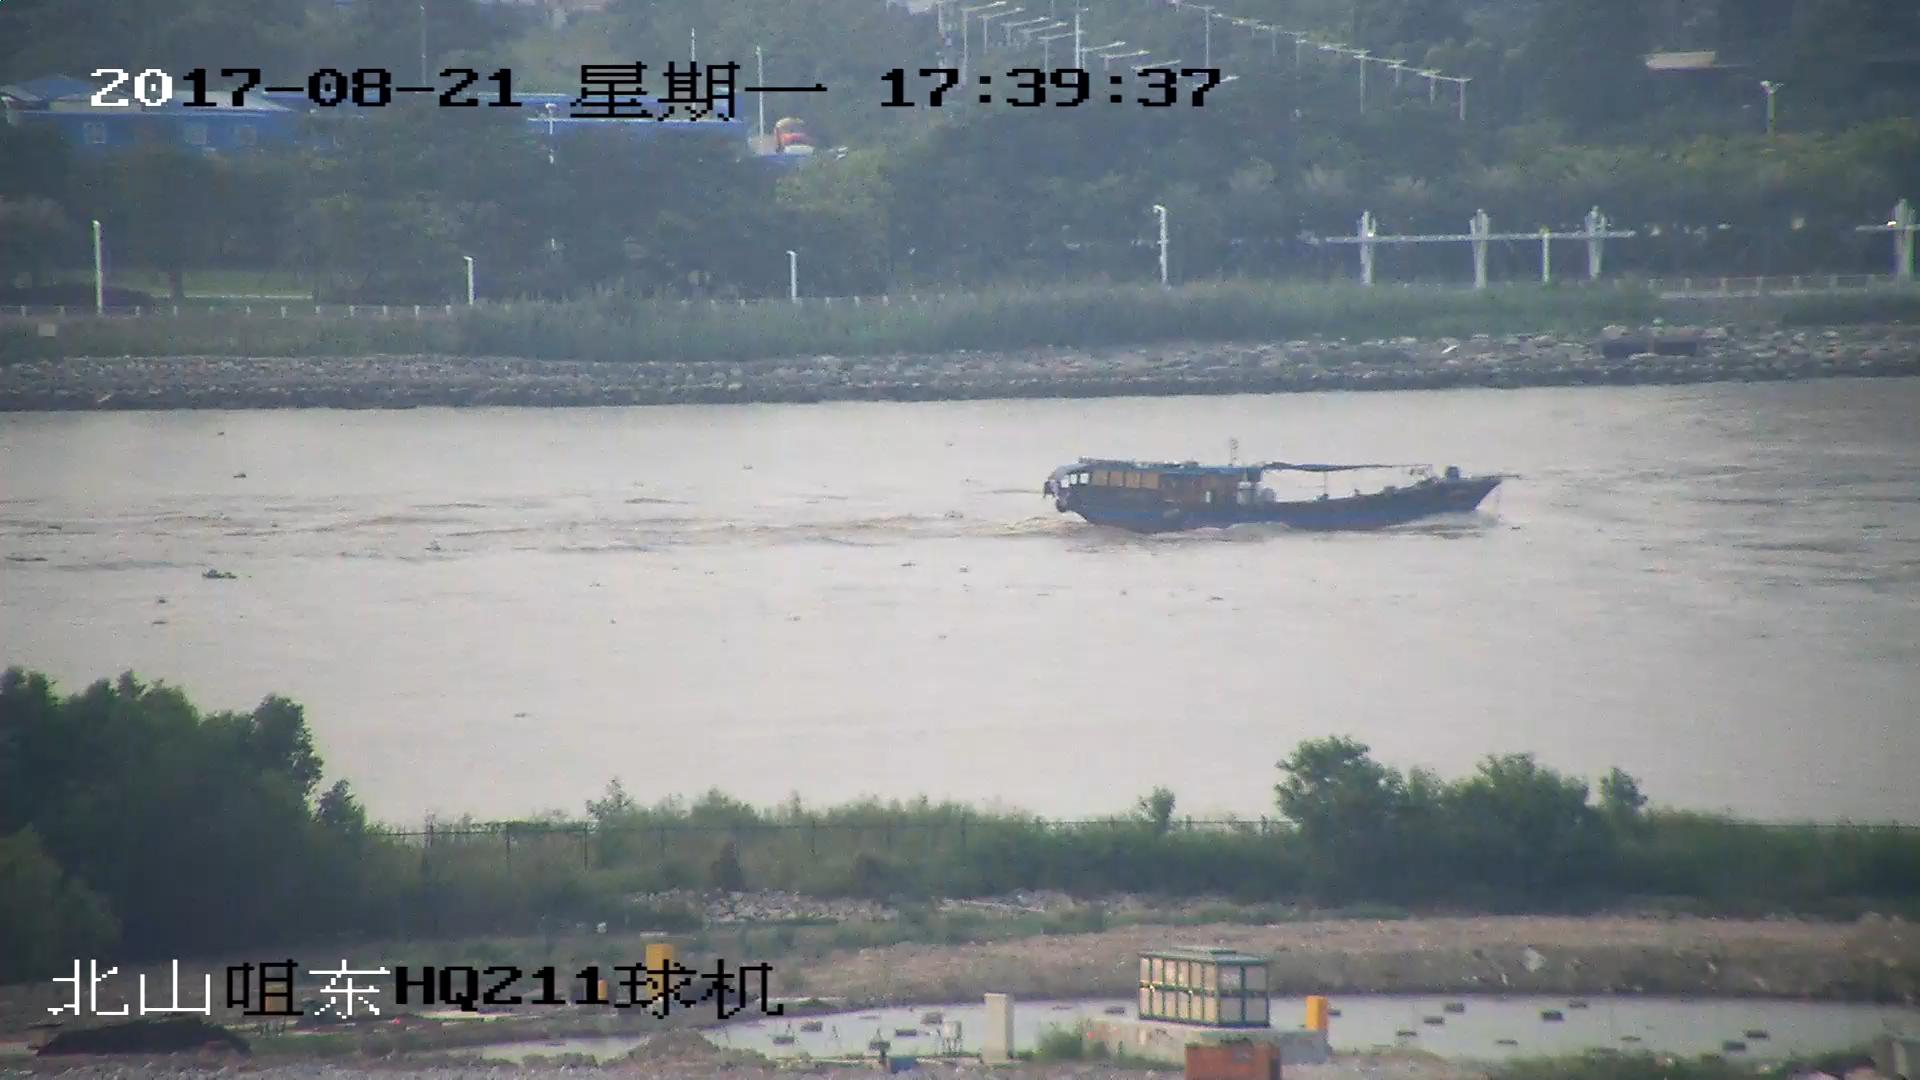fishing boat: (1044, 450, 1521, 531)
